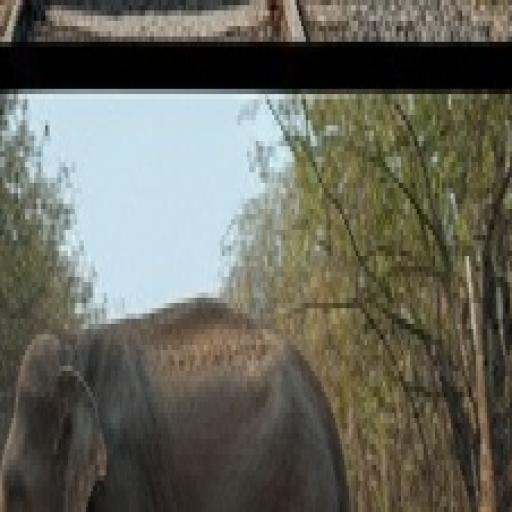elephant: (18, 230, 358, 512)
